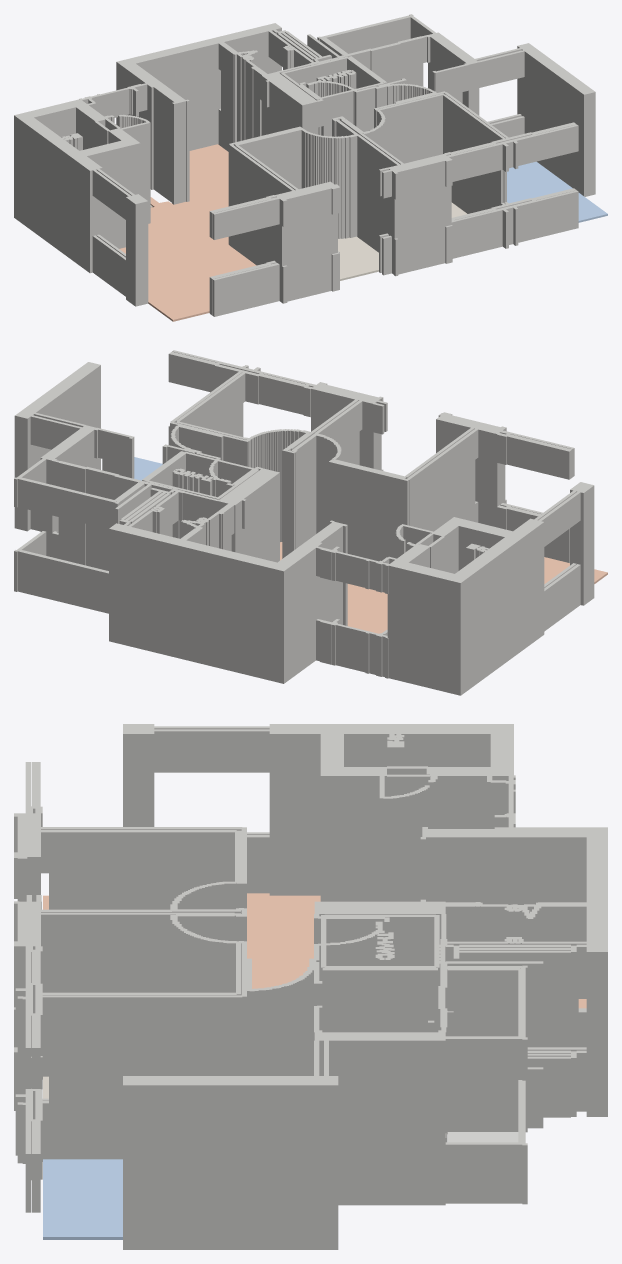
The picture shows the model from 3 angles, top to bottom: view 1: azimuth 30°, elevation 25°; view 2: azimuth 150°, elevation 25°; view 3: azimuth 270°, elevation 25°; orthographic projection. The views are drawn at different scales.
Visible parts, largest first — view 1: walls, room:kitchen:0, room:bedroom:3, room:other:11; view 2: walls, room:kitchen:0; view 3: walls, room:bedroom:3, room:kitchen:0, room:ledge:2.
Boxes of the visible parts, bbox=[...] form: walls: bbox=[14, 14, 595, 316]; room:kitchen:0: bbox=[119, 144, 256, 321]; room:bedroom:3: bbox=[507, 161, 607, 222]; room:other:11: bbox=[338, 236, 378, 280]; walls: bbox=[14, 350, 594, 695]; room:kitchen:0: bbox=[280, 542, 607, 633]; walls: bbox=[14, 724, 607, 1249]; room:bedroom:3: bbox=[43, 1159, 122, 1239]; room:kitchen:0: bbox=[43, 893, 586, 1008]; room:ledge:2: bbox=[447, 1132, 518, 1142].
Bounding box in the file's own units: 13.16 × 2.8 × 9.15.
